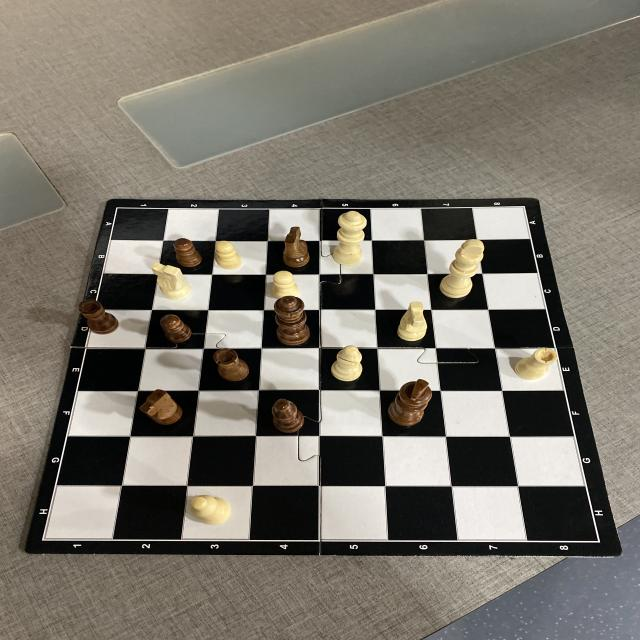Black-Bishop: (270, 397, 307, 435)
Black-King: (387, 378, 434, 428)
Black-Knight: (137, 390, 188, 426), (283, 225, 311, 269)
Black-Pawn: (158, 314, 195, 344), (173, 238, 204, 268)
Black-Queen: (273, 295, 312, 347)
Black-Rook: (77, 300, 121, 334), (212, 347, 252, 382)
White-Bishop: (329, 345, 365, 382)
White-King: (440, 238, 486, 298)
White-Knight: (148, 262, 193, 300), (395, 301, 428, 343)
White-Pawn: (187, 494, 233, 526), (271, 270, 303, 300), (212, 240, 243, 270)
White-Queen: (332, 211, 367, 266)
White-Rook: (513, 346, 559, 382)
